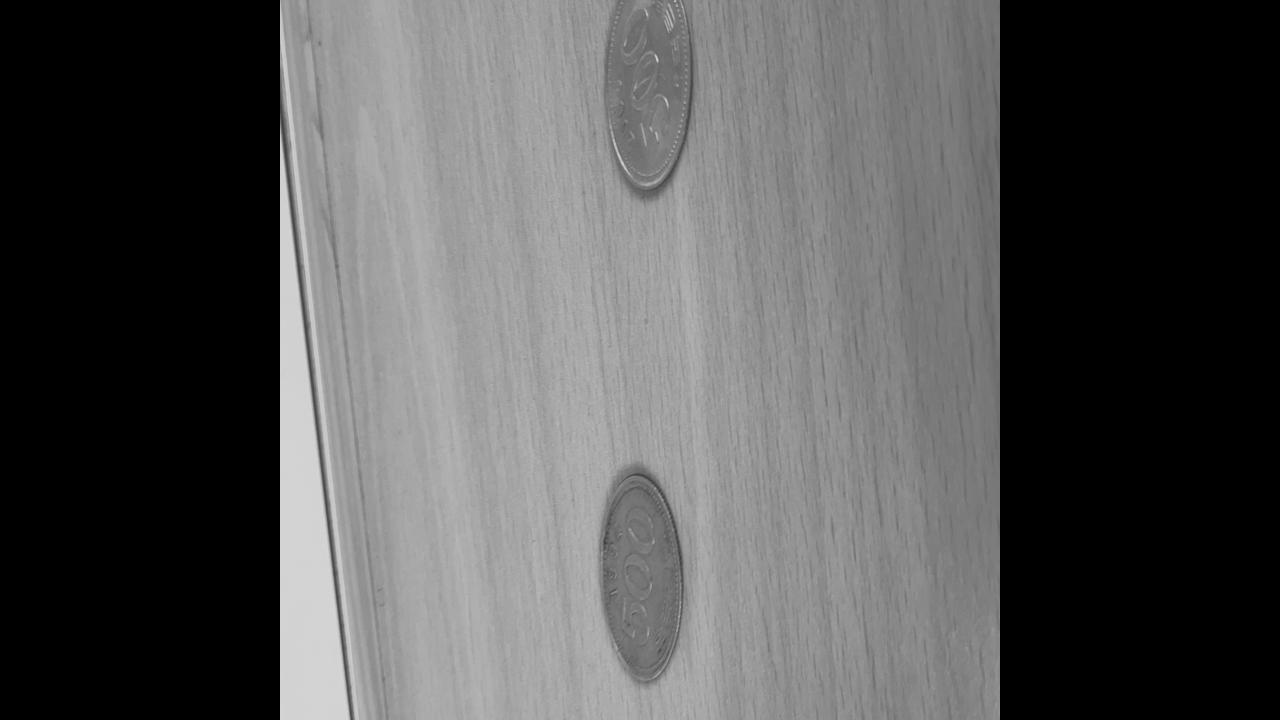coin: (596, 466, 684, 686), (602, 0, 693, 192)
